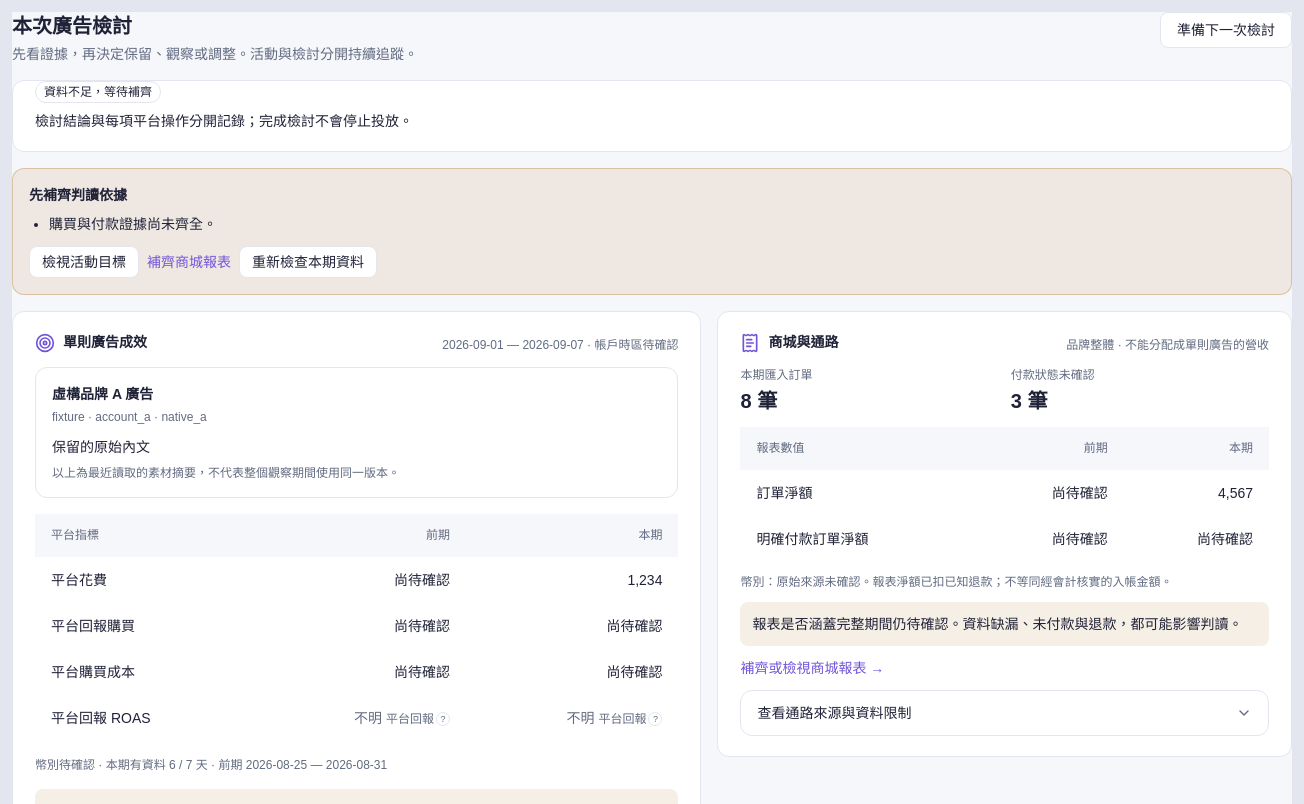
Test: 廣告檢討的證據與使用者決定 › 商城與平台分區呈現，未知付款、幣別與缺資料不顯示成功或補零
Check: the text "1,234" is shown, box x1=466 y1=557 x2=678 y2=603
Check: the text "4,567" is shown, box x1=1124 y1=470 x2=1269 y2=516
What coordinates should you click on to do the following:
click the button "查看通路來源與資料限制"
I would click on:
 (834, 713)
Its box is x1=742 y1=691 x2=1268 y2=735.
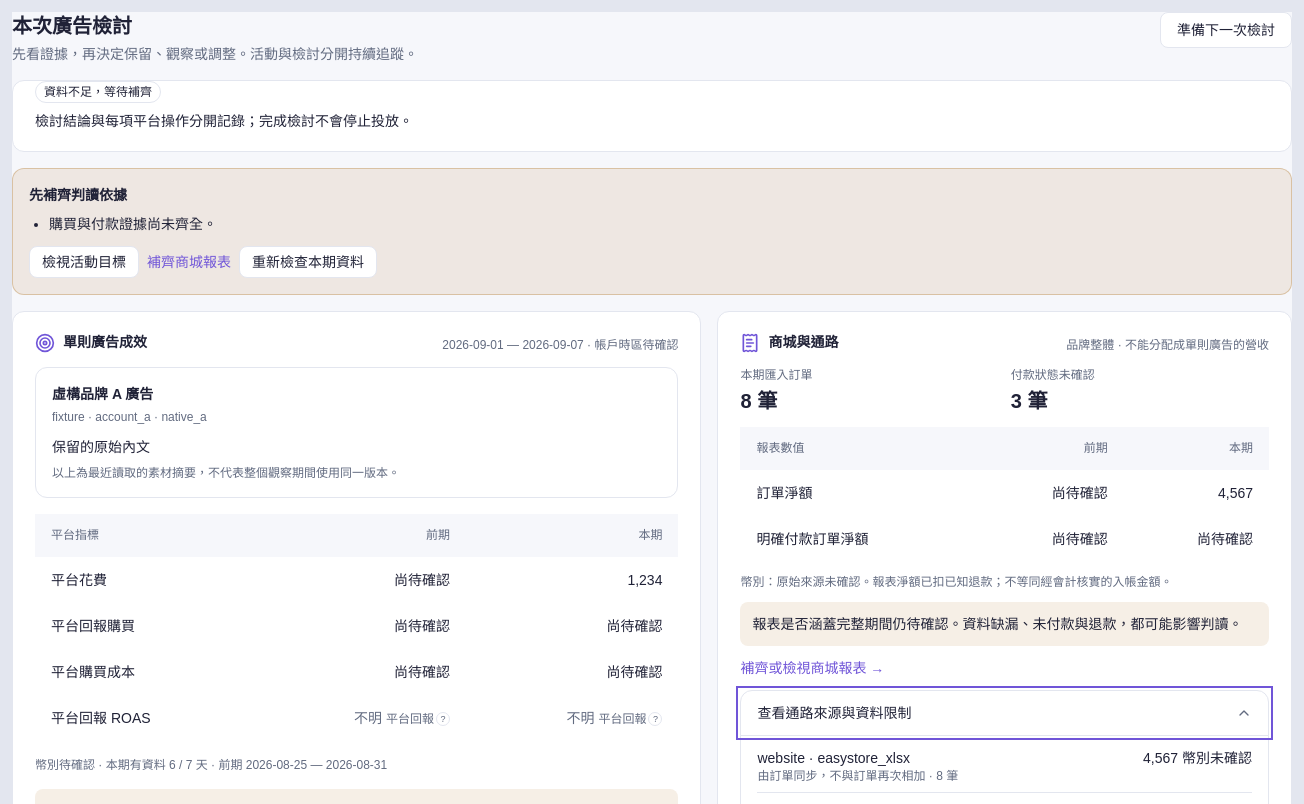
Check: the text "由訂單同步，不與訂單再次相加 · 8 筆" is shown, box x1=758 y1=768 x2=958 y2=784
